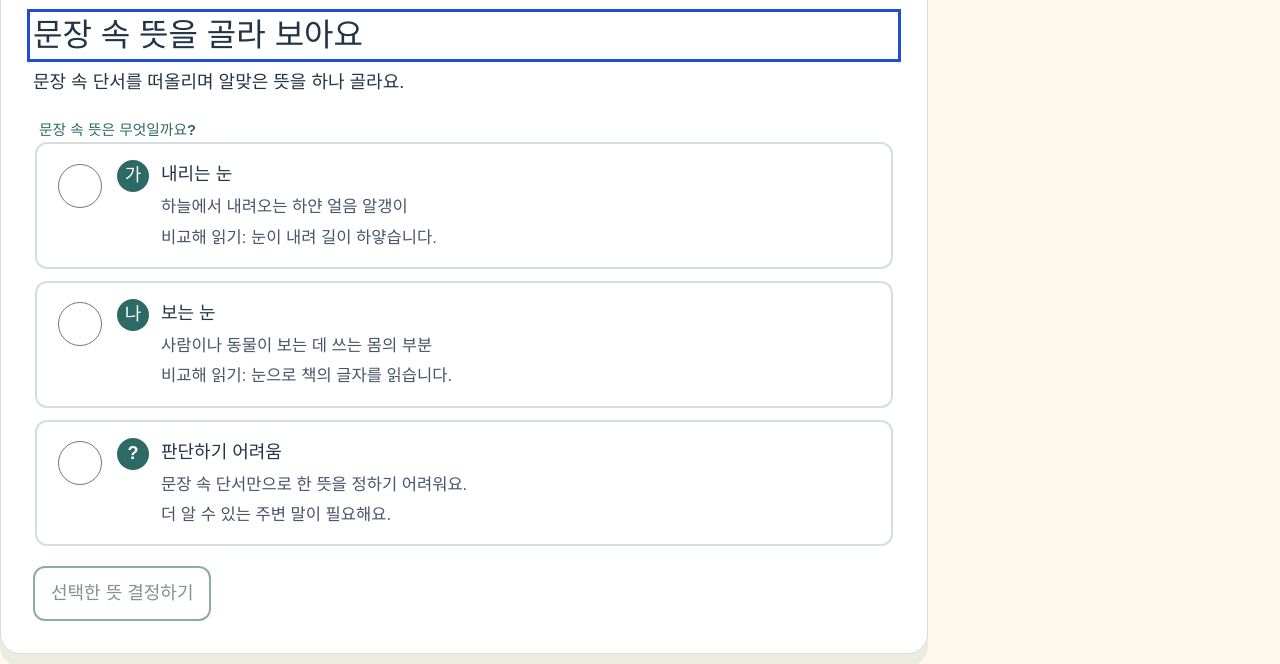
Test: MeaningSignpostScreen › shows the decision-clue guidance when uncertainty is chosen for a clear scene
This screenshot has width=1280, height=664.
What coordinates should you click on to do the following:
click the radio button labelled "? 판단하기 어려움 문장 속 단서만으로 한 뜻을 정하기 어려워요. 더 알 수 있는 주변 말이 필요해요."
I would click on:
 (80, 463)
Its box is top-left (58, 441), bottom-right (102, 485).
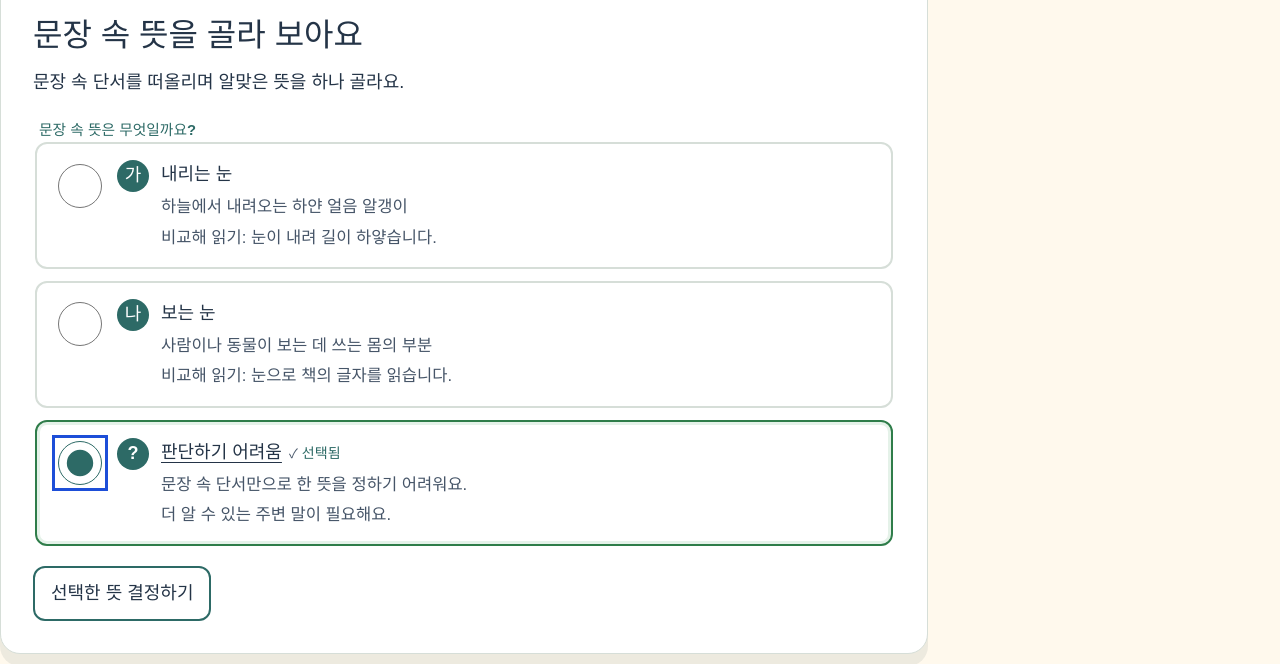
What coordinates should you click on to do the following:
click the button "선택한 뜻 결정하기"
I would click on:
 (122, 594)
Its box is top-left (33, 566), bottom-right (212, 621).
(page scrolled)
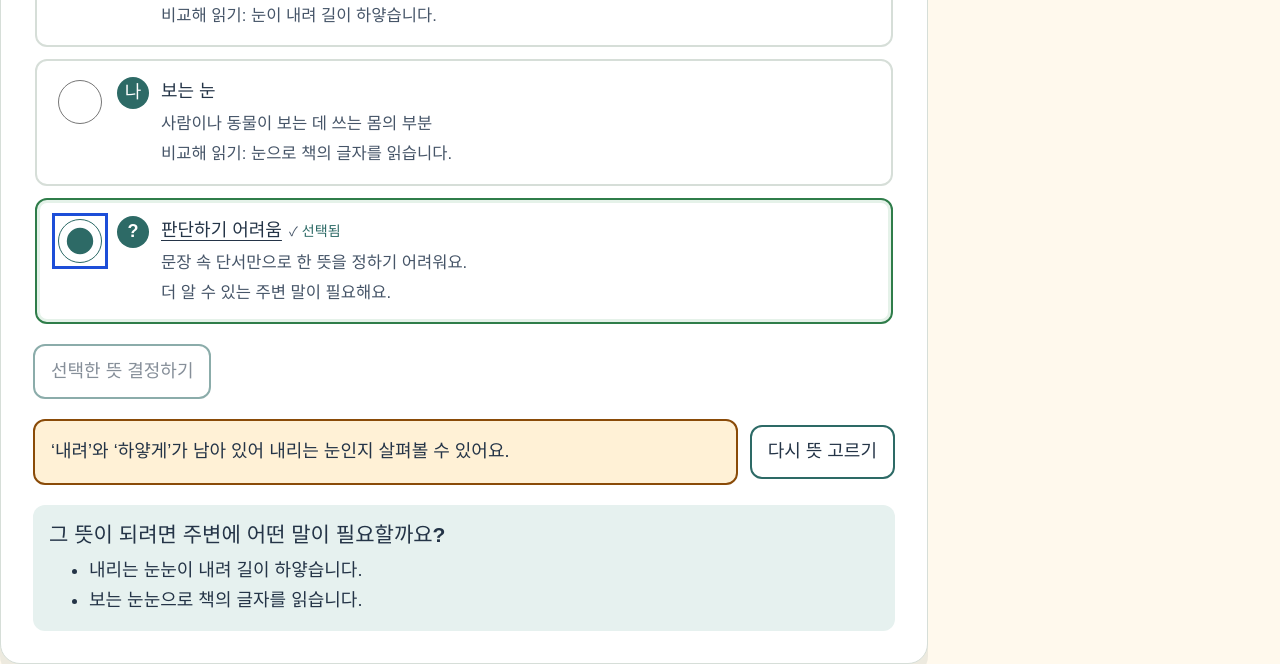
Result: the text "‘내려’와 ‘하얗게’가 남아 있어 내리는 눈인지 살펴볼 수 있어요." is shown at top-left (51, 441), bottom-right (510, 461)
